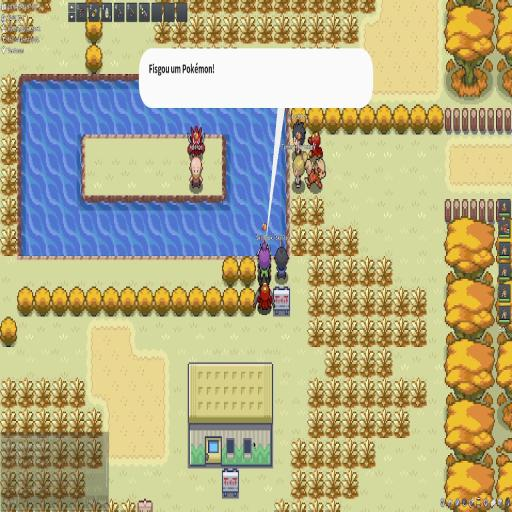STARTBATTLE: (147, 63, 216, 75)
